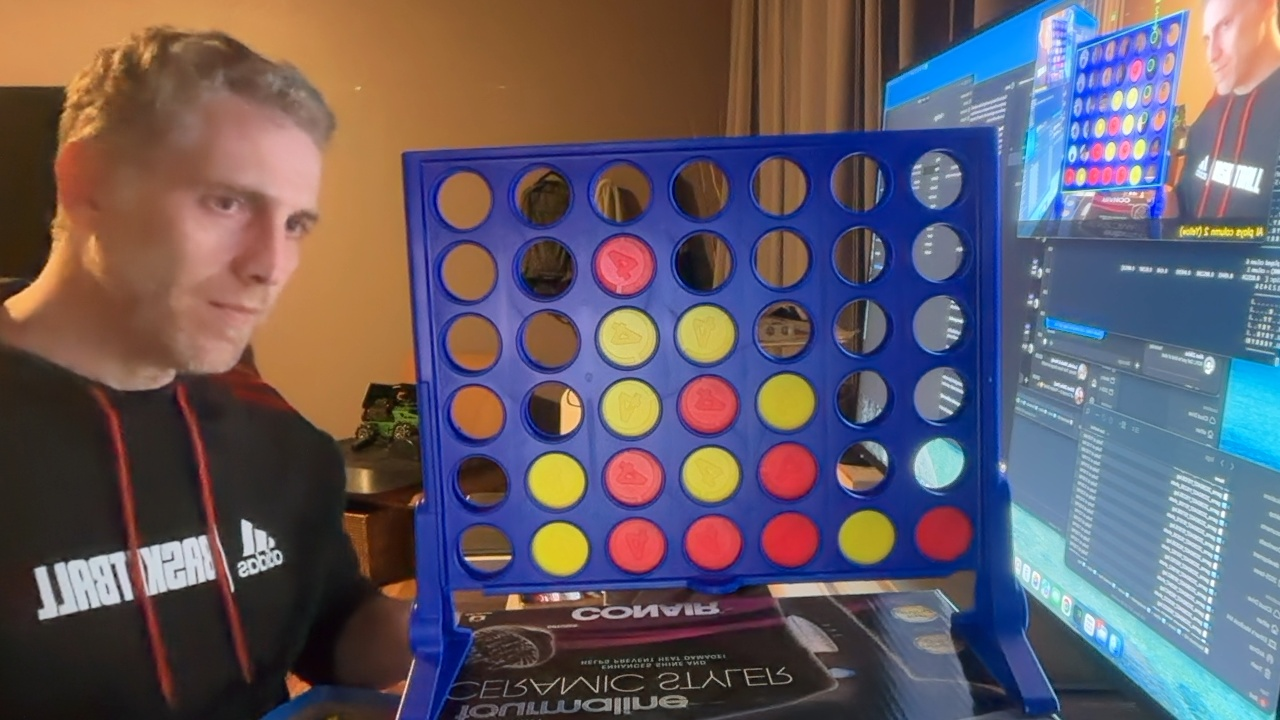red piece: (594, 235, 655, 296), (678, 375, 739, 434), (759, 442, 818, 500), (603, 449, 663, 506), (684, 515, 742, 571), (761, 512, 819, 568), (608, 518, 666, 573), (915, 506, 973, 561)
yellow piece: (676, 304, 735, 364), (597, 308, 657, 367), (600, 379, 660, 437), (757, 372, 815, 431), (681, 446, 741, 503), (527, 452, 586, 509), (531, 521, 589, 576), (838, 510, 895, 565)
